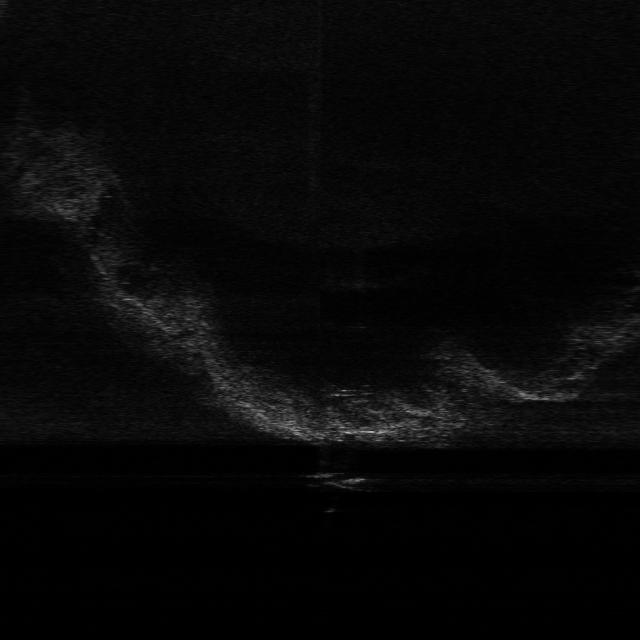plane: (299, 468, 383, 494)
